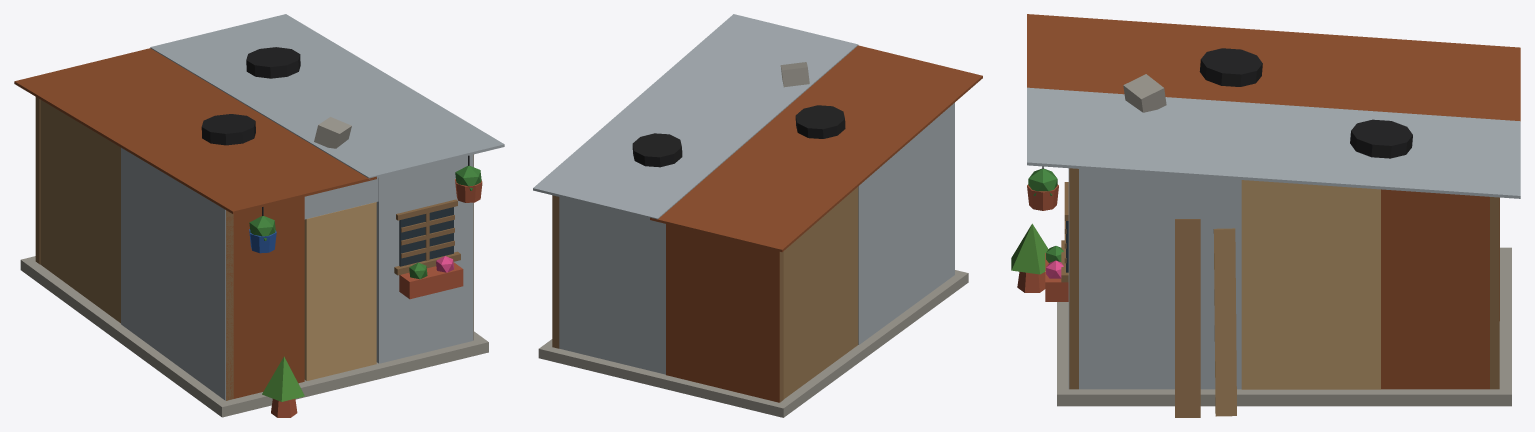
File: BAY_I_TinShack_Q.glb
3 renders of one model, left to right at view 1: azimuth 30°, elevation 25°; view 2: azimuth 150°, elevation 25°; view 3: azimuth 270°, elevation 25°, orthographic. The views are drawn at different scales.
Visible parts, largest first — view 1: BAY_I_TinShack_Q; view 2: BAY_I_TinShack_Q; view 3: BAY_I_TinShack_Q.
Boxes of the visible parts, x1,y1,x2,y2 form: BAY_I_TinShack_Q: (14,14,504,417); BAY_I_TinShack_Q: (533,14,982,417); BAY_I_TinShack_Q: (1011,14,1520,417).
Size of the model in its own units: 3.57 by 2.68 by 4.74.
1 material, 1 textured.
